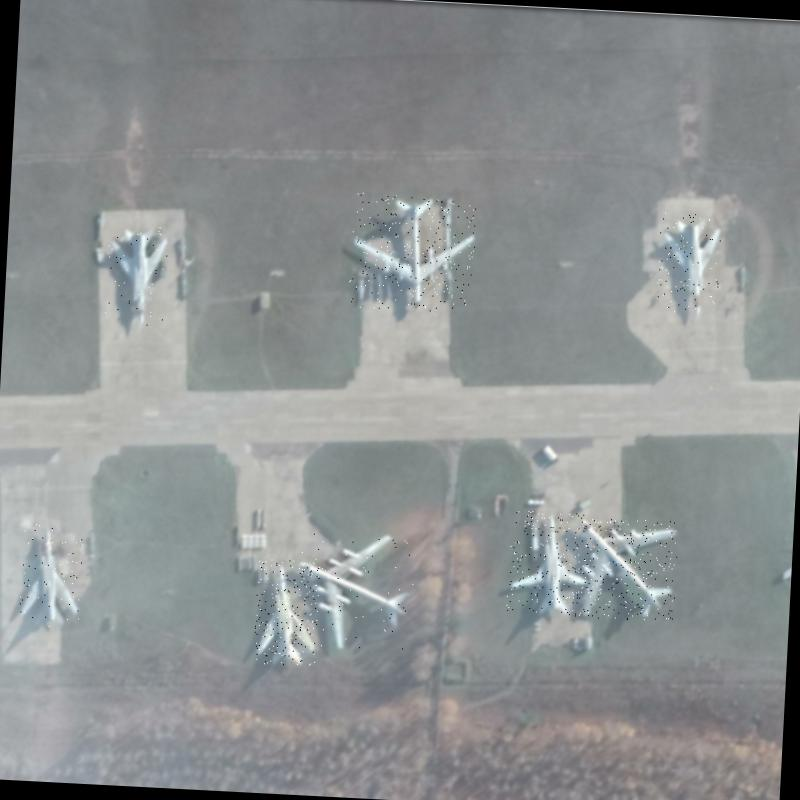A12: (506, 510, 593, 617), (253, 559, 320, 667), (17, 524, 84, 628), (656, 212, 722, 316), (104, 224, 168, 326)
A17: (291, 527, 416, 654), (348, 192, 478, 314), (573, 516, 679, 622)
